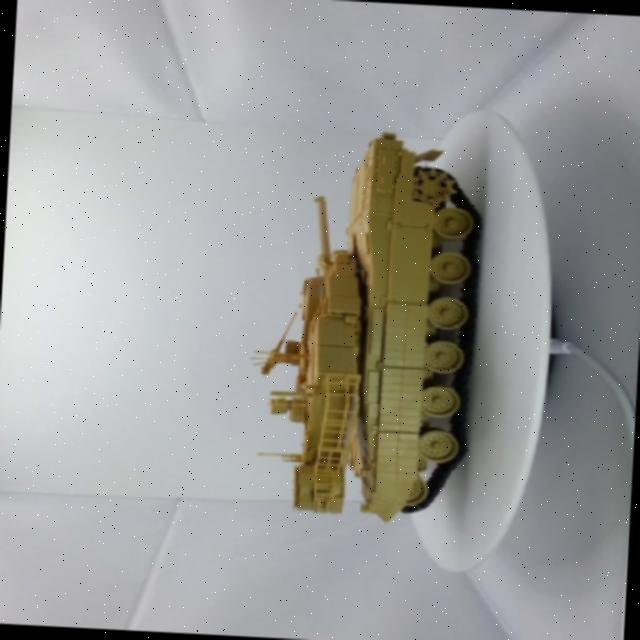korea tank: (233, 106, 508, 544)
